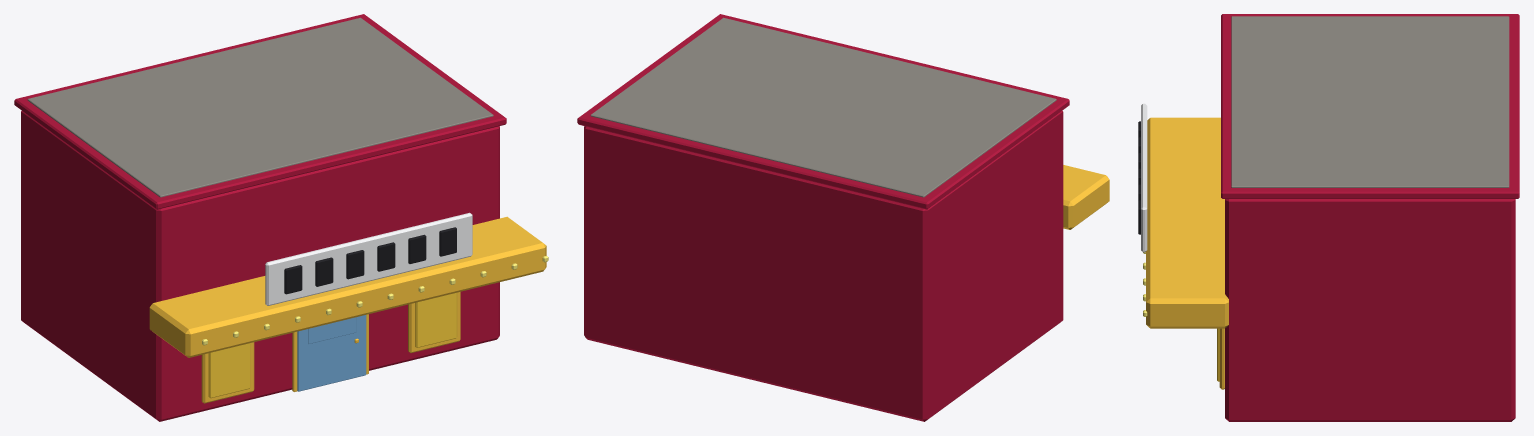
File: Cinema.fbx
3 views of the same model, side by side, from view 1: azimuth 30°, elevation 25°; view 2: azimuth 150°, elevation 25°; view 3: azimuth 270°, elevation 25° (orthographic). The views are drawn at different scales.
Parts seen in each view (by area): view 1: Cinema; view 2: Cinema; view 3: Cinema.
Boxes of the visible parts, x1=… form: Cinema: x1=14, y1=14, x2=548, y2=421; Cinema: x1=577, y1=14, x2=1109, y2=421; Cinema: x1=1138, y1=14, x2=1519, y2=421.
Size of the model in its own units: 21 by 12.48 by 18.38.
1 material, 1 textured.
